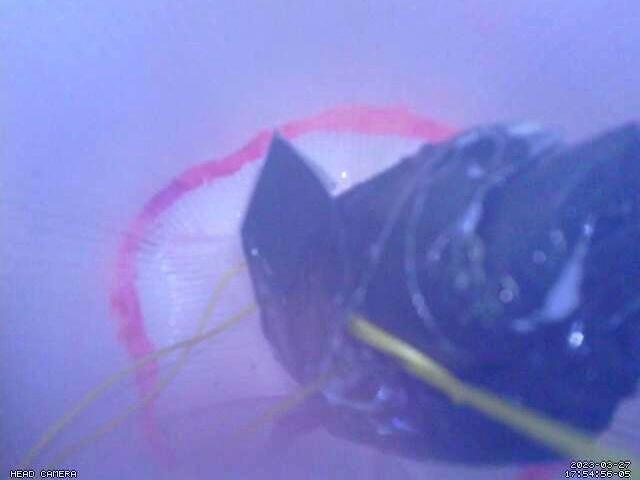head: (109, 103, 464, 480)
